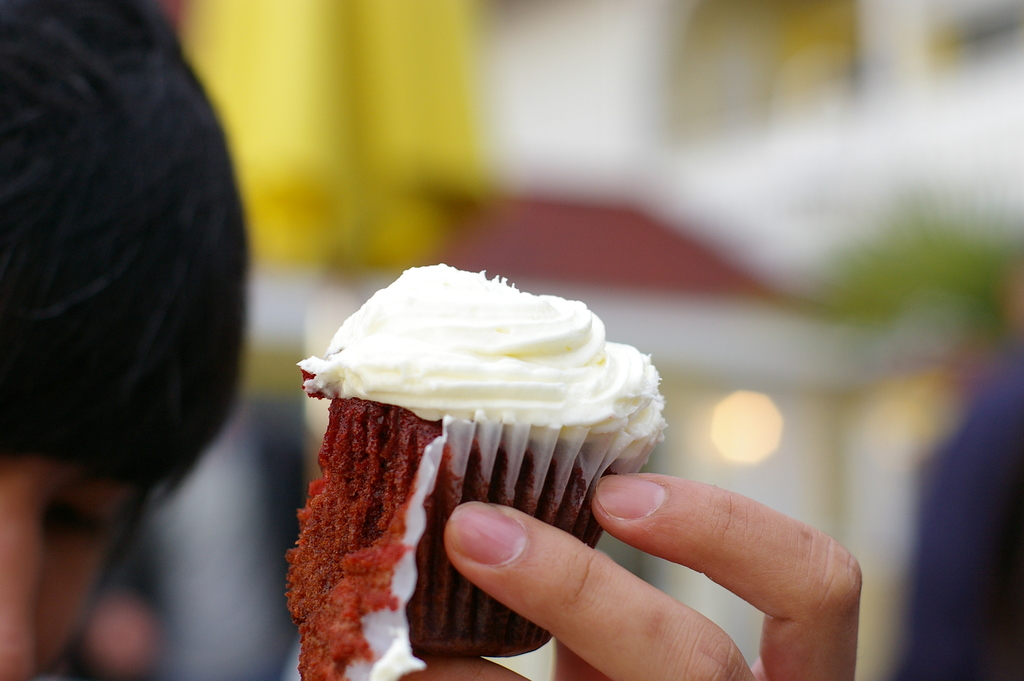cake: (268, 256, 670, 680)
